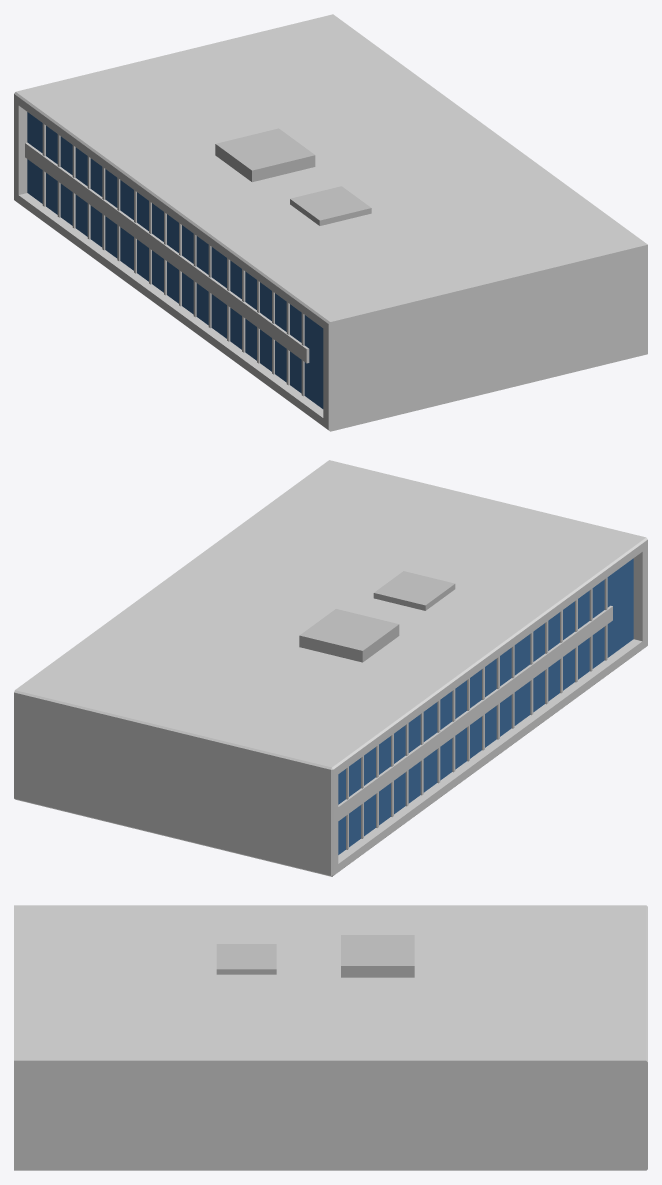
The model's file is Side1.fbx.
3 renders of one model, top to bottom at view 1: azimuth 30°, elevation 25°; view 2: azimuth 150°, elevation 25°; view 3: azimuth 270°, elevation 25°, orthographic.
Parts seen in each view (by area): view 1: Cube.007; view 2: Cube.007; view 3: Cube.007.
Boxes of the visible parts, bbox=[...] form: Cube.007: bbox=[14, 14, 647, 431]; Cube.007: bbox=[14, 460, 647, 876]; Cube.007: bbox=[14, 905, 647, 1170].
Bounding box in the file's own units: 646 × 234 × 1106.
